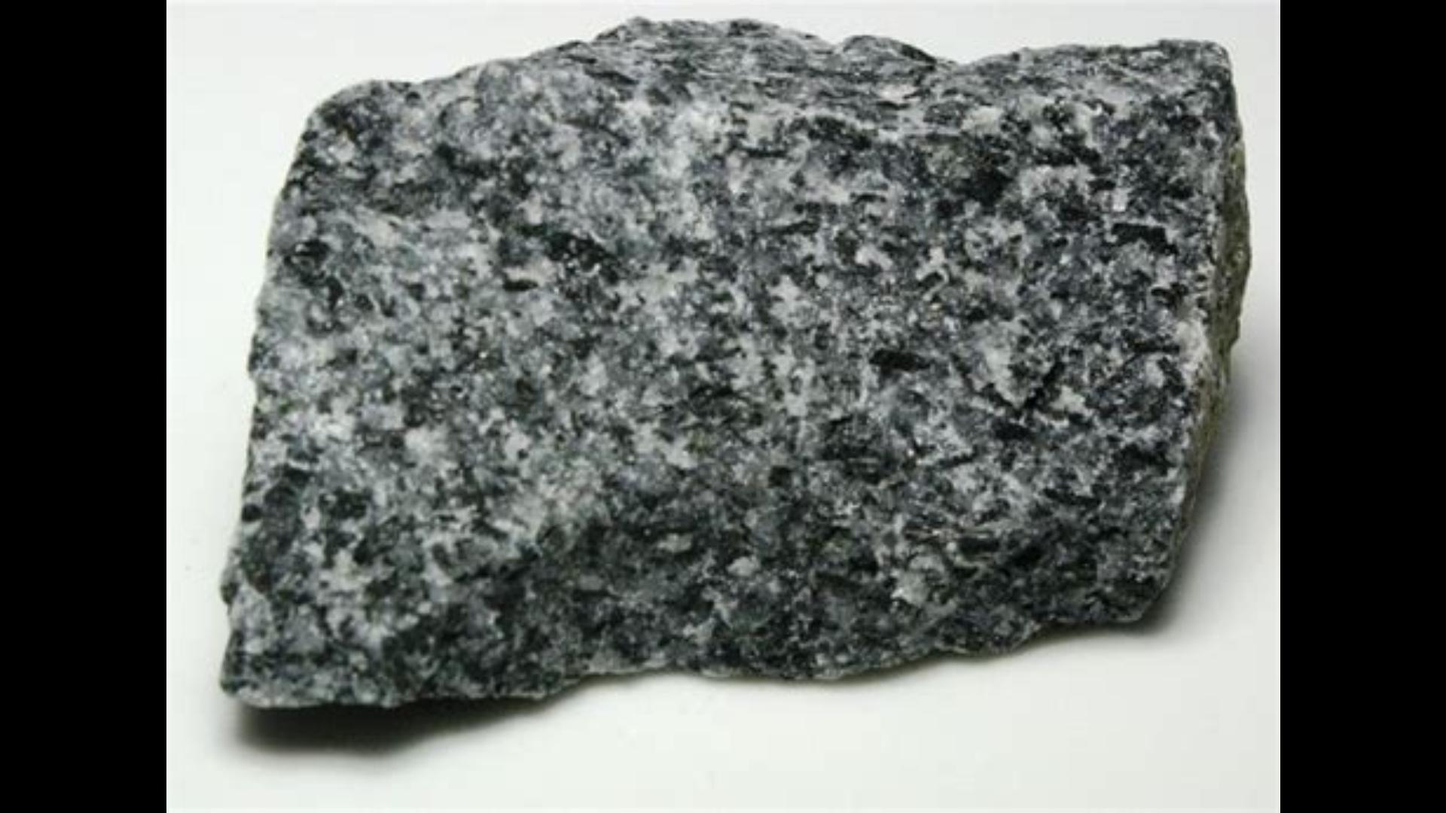rock: (222, 19, 1242, 703)
